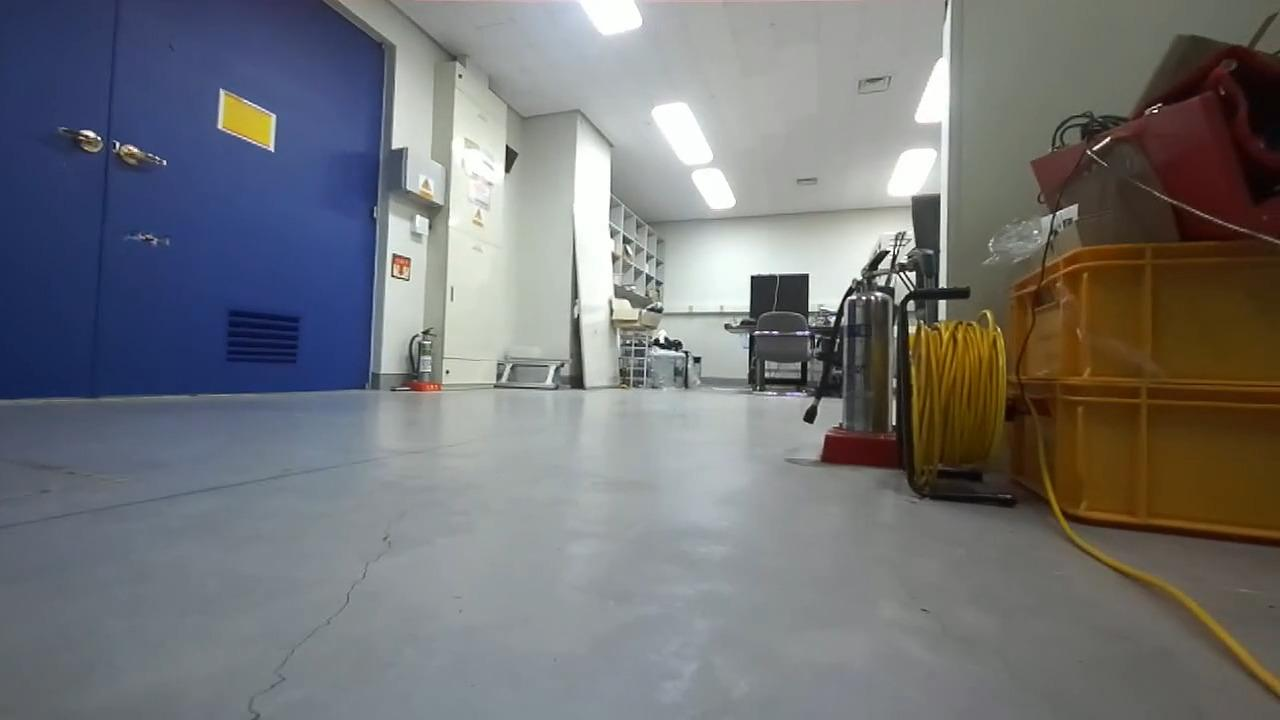crazyflie: (118, 224, 175, 251)
